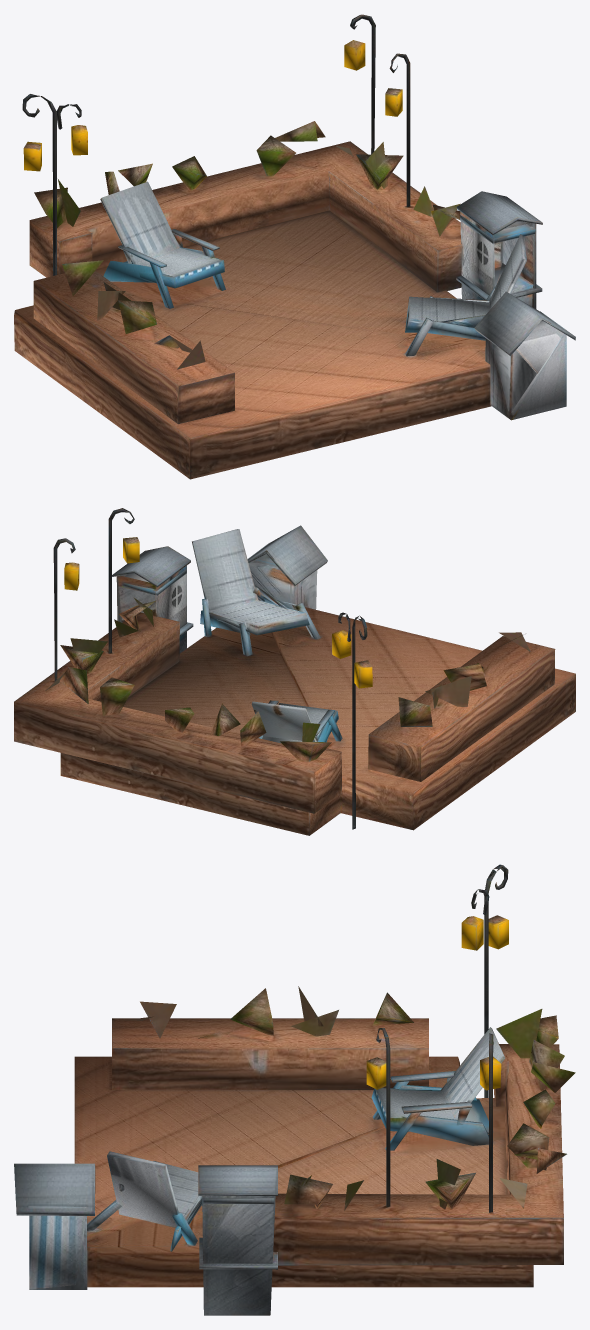
The model's file is roof_garden.glb.
The picture shows the model from 3 angles, top to bottom: view 1: azimuth 30°, elevation 25°; view 2: azimuth 150°, elevation 25°; view 3: azimuth 270°, elevation 25°; orthographic projection. The views are drawn at different scales.
Bounding box in the file's own units: 4.6 × 2.58 × 5.
Materials: 1 (1 with a texture image).
